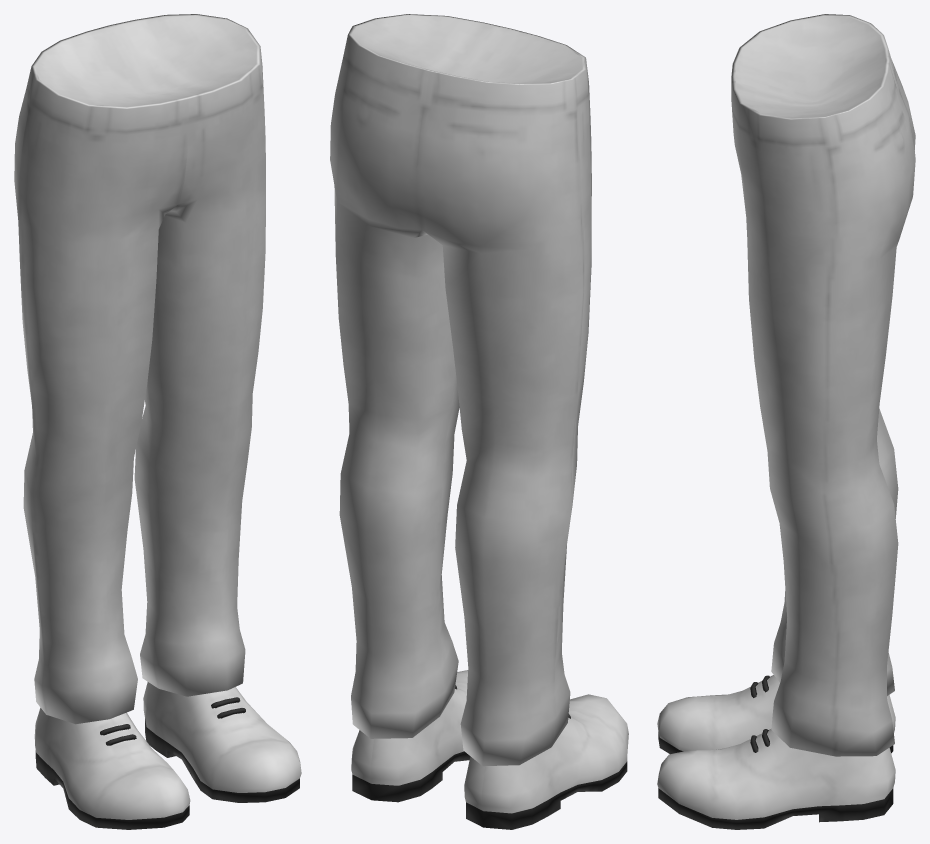
File: tr0840_00_lwb03.gltf
3 renders of one model, left to right at view 1: azimuth 30°, elevation 25°; view 2: azimuth 150°, elevation 25°; view 3: azimuth 270°, elevation 25°, orthographic. The views are drawn at different scales.
Parts seen in each view (by area): view 1: lwb03_lowerbody_mesh_shape:lowerbody03, lwb03_shoes_mesh_shape:lowerbody03; view 2: lwb03_lowerbody_mesh_shape:lowerbody03, lwb03_shoes_mesh_shape:lowerbody03; view 3: lwb03_lowerbody_mesh_shape:lowerbody03, lwb03_shoes_mesh_shape:lowerbody03.
Boxes of the visible parts, x1,y1,x2,y2 form: lwb03_lowerbody_mesh_shape:lowerbody03: (14,14,265,724); lwb03_shoes_mesh_shape:lowerbody03: (34,682,301,829); lwb03_lowerbody_mesh_shape:lowerbody03: (330,14,591,766); lwb03_shoes_mesh_shape:lowerbody03: (351,670,628,829); lwb03_lowerbody_mesh_shape:lowerbody03: (731,14,915,756); lwb03_shoes_mesh_shape:lowerbody03: (657,675,895,829).
Size of what is drawn, in the model's own units: 0.3371 by 0.9674 by 0.3158.
1 material, 1 textured.
